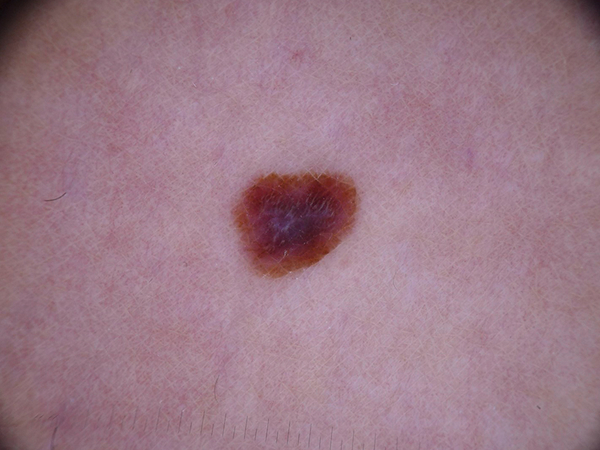Detected Lesion: (229, 163, 365, 282)
